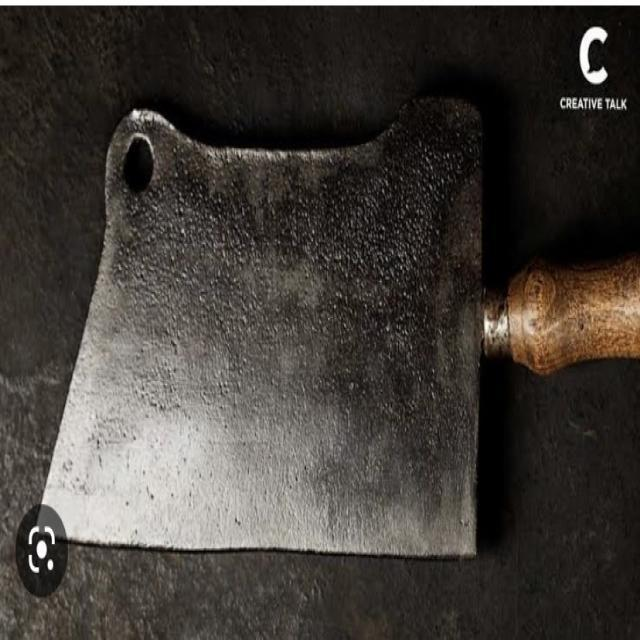Knife: (32, 94, 640, 567)
